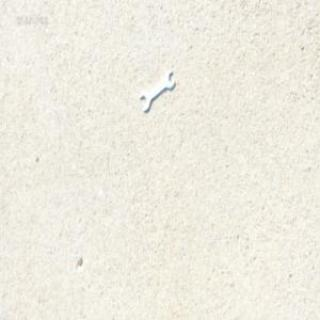Wrenchtrack_idkeyframe: (140, 71, 174, 112)
